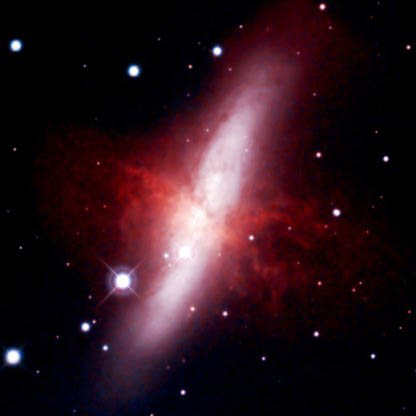Messier 82: (71, 14, 348, 360)
